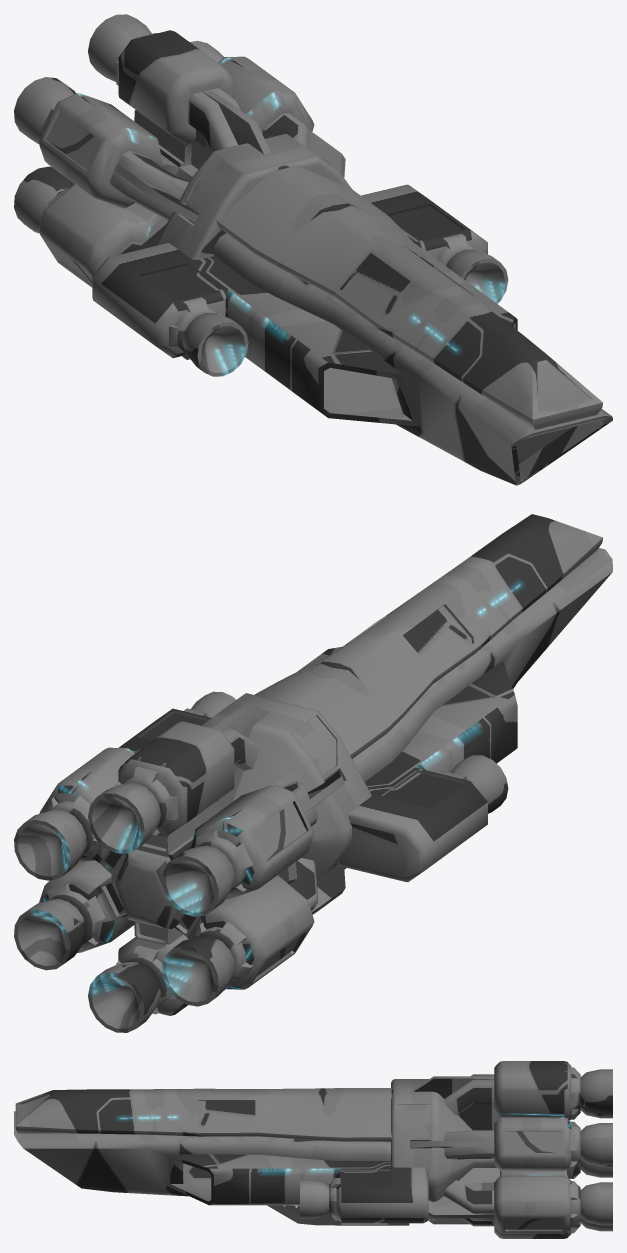
The model's file is Jupiter.fbx.
The picture shows the model from 3 angles, top to bottom: view 1: azimuth 30°, elevation 25°; view 2: azimuth 150°, elevation 25°; view 3: azimuth 270°, elevation 25°; orthographic projection. The views are drawn at different scales.
Visible parts, largest first — view 1: Jupiter_LOD0; view 2: Jupiter_LOD0; view 3: Jupiter_LOD0.
Boxes of the visible parts, x1,y1,x2,y2 form: Jupiter_LOD0: (14,14,612,485); Jupiter_LOD0: (14,514,612,1032); Jupiter_LOD0: (14,1061,612,1238).
Size of what is drawn, in the model's own units: 15862 by 11453 by 37393.
